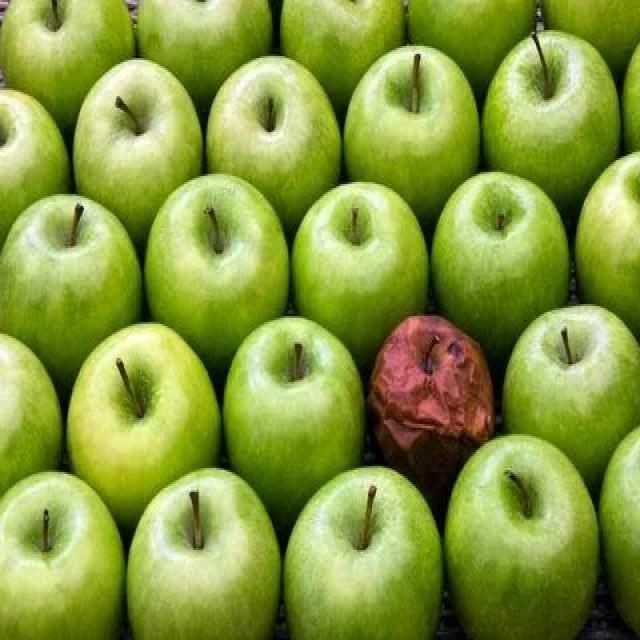fresh_apple: (445, 435, 599, 631), (68, 325, 224, 493), (287, 469, 441, 637), (222, 316, 362, 500), (2, 198, 142, 376), (128, 469, 280, 629), (147, 170, 284, 346), (0, 472, 124, 638), (294, 183, 429, 329), (344, 50, 480, 194), (485, 35, 619, 175), (434, 175, 569, 309), (207, 58, 341, 192), (504, 304, 636, 440), (72, 62, 203, 194), (562, 306, 567, 308)
rotten_apple: (369, 311, 495, 483)
